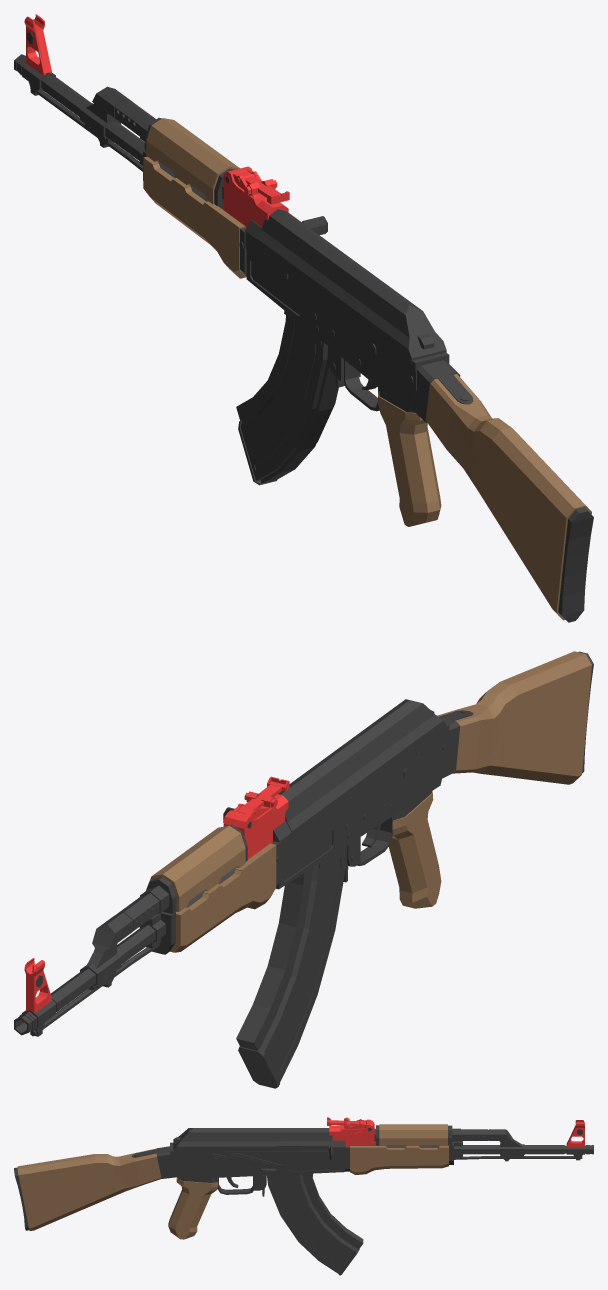
File: fusil_13.glb
3 renders of one model, top to bottom at view 1: azimuth 30°, elevation 25°; view 2: azimuth 150°, elevation 25°; view 3: azimuth 270°, elevation 25°, orthographic. The views are drawn at different scales.
Parts seen in each view (by area): view 1: p75_accent, p40_paint, p28_paint, p36_paint, p67_accent, p19_accent, p20_accent, p77_paint, p0_paint, p22_del, p73_paint, p11_paint (+2 smaller); view 2: p75_accent, p28_paint, p40_paint, p36_paint, p19_accent, p67_accent, p20_accent, p0_paint, p11_paint, p22_del, p2_del, p30_paint (+5 smaller); view 3: p75_accent, p28_paint, p36_paint, p40_paint, p19_accent, p67_accent, p20_accent, p0_paint, p39_paint, p22_del, p11_paint, p58_paint (+7 smaller).
Boxes of the visible parts, x1,y1,x2,y2 form: p75_accent: (426, 374, 591, 620); p40_paint: (257, 209, 446, 364); p28_paint: (236, 315, 338, 483); p36_paint: (246, 249, 416, 411); p67_accent: (378, 391, 441, 526); p19_accent: (143, 156, 246, 278); p20_accent: (146, 118, 239, 204); p77_paint: (558, 507, 593, 622); p0_paint: (14, 54, 223, 209); p22_del: (223, 166, 288, 227); p73_paint: (410, 360, 473, 422); p11_paint: (92, 86, 223, 199); p75_accent: (437, 651, 591, 784); p28_paint: (236, 846, 346, 1082); p40_paint: (278, 699, 446, 837); p36_paint: (276, 735, 448, 889); p19_accent: (170, 843, 276, 952); p67_accent: (389, 791, 441, 908); p20_accent: (146, 825, 245, 911); p0_paint: (14, 867, 236, 1035); p11_paint: (92, 885, 169, 950); p22_del: (223, 794, 288, 859); p2_del: (24, 958, 51, 1013); p30_paint: (238, 1046, 279, 1088); p75_accent: (17, 1148, 161, 1230); p28_paint: (267, 1174, 363, 1273); p36_paint: (170, 1147, 344, 1179); p40_paint: (173, 1128, 332, 1153); p19_accent: (350, 1141, 448, 1174); p67_accent: (168, 1177, 218, 1239); p20_accent: (379, 1124, 447, 1145); p0_paint: (374, 1143, 593, 1154); p39_paint: (270, 1137, 332, 1150); p22_del: (329, 1119, 374, 1146); p11_paint: (374, 1128, 512, 1141); p58_paint: (208, 1155, 269, 1168).
Size of the model in its own units: 0.0639 by 0.2575 by 0.88.
